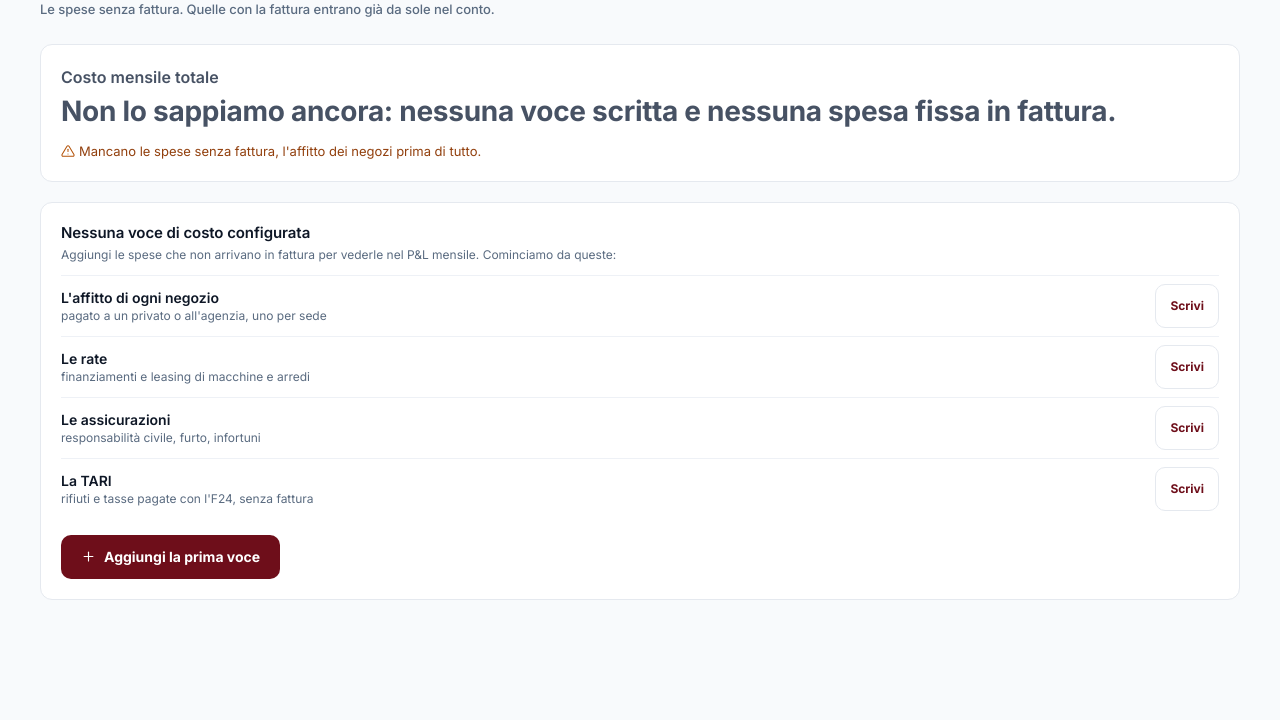
Test: Costi fissi · ogni comando si raggiunge da tastiera › la finestra della voce si annuncia come finestra
The width and height of the screenshot is (1280, 720).
Click the button with aria-label "Aggiungi nuova voce di costo" at (171, 556), box x1=61 y1=534 x2=280 y2=578
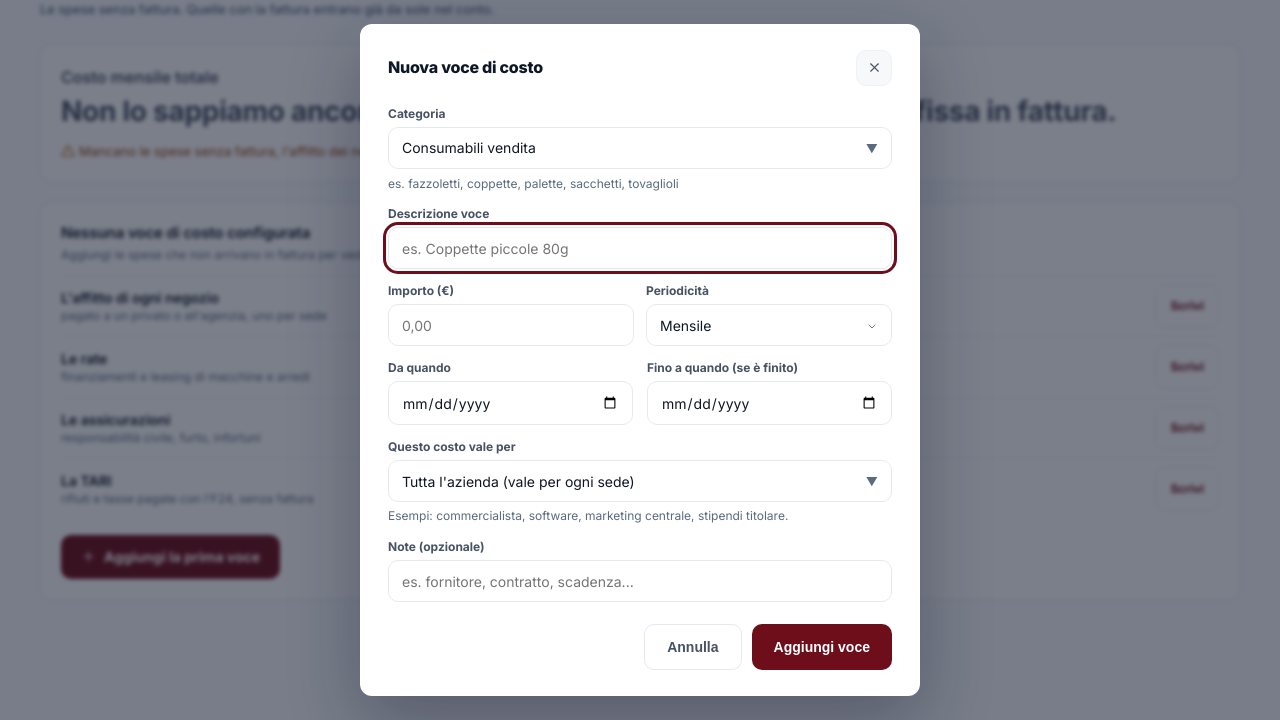
Check: the heading with id "costo-dialog-title" reads "Nuova voce di costo", box x1=388 y1=57 x2=543 y2=77
